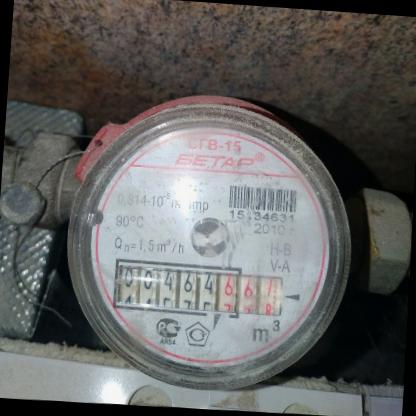digital_screen: (110, 256, 224, 317)
